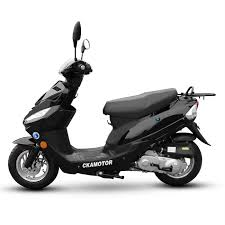motorcycle: (6, 22, 216, 190)
